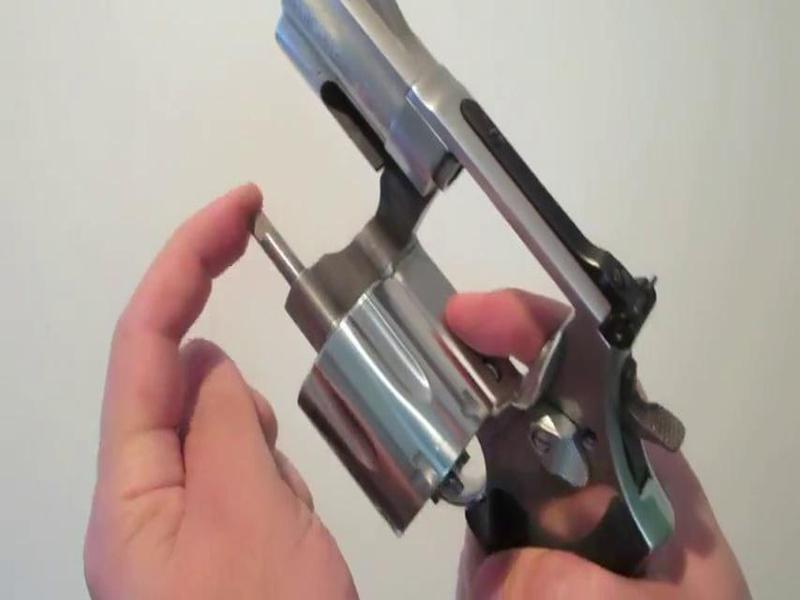Revolver: (236, 9, 704, 600)
